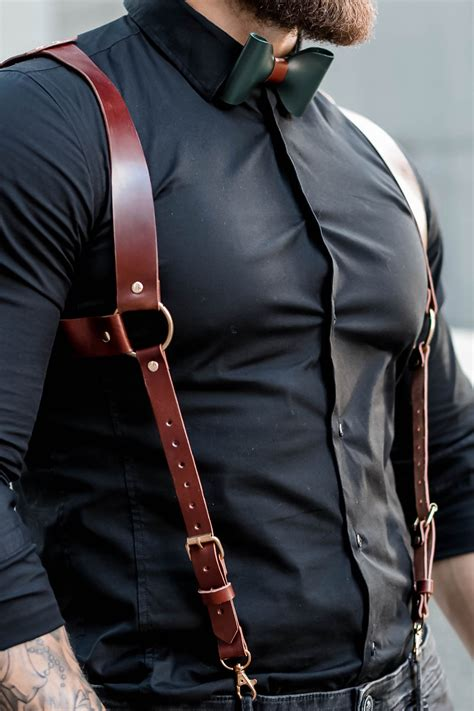cuero: (3, 38, 269, 707)
